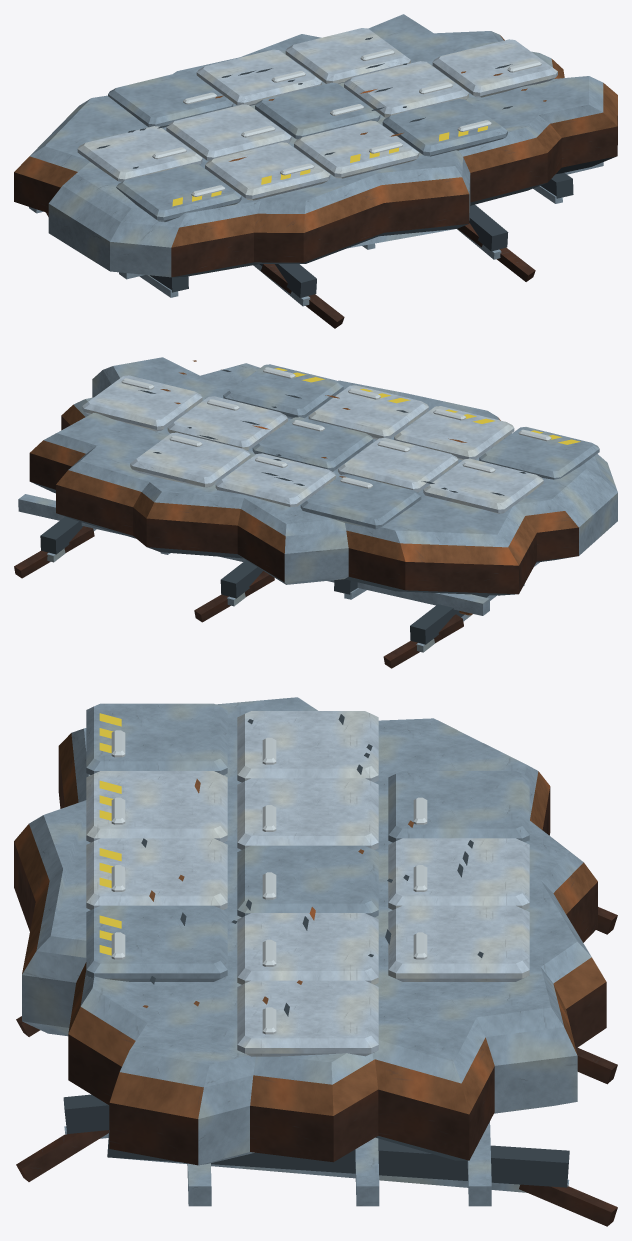
Rendered from hull_wreckage_slab.glb.
3 views of the same model, one above another, from view 1: azimuth 30°, elevation 25°; view 2: azimuth 150°, elevation 25°; view 3: azimuth 270°, elevation 25° (orthographic). The views are drawn at different scales.
Visible parts, largest first — view 1: Hull; view 2: Hull; view 3: Hull.
Boxes of the visible parts, x1,y1,x2,y2 form: Hull: (14, 14, 617, 328); Hull: (14, 357, 617, 668); Hull: (14, 697, 617, 1226).
Bounding box in the file's own units: 16 × 4 × 10.
Materials: 8 (4 with a texture image).
